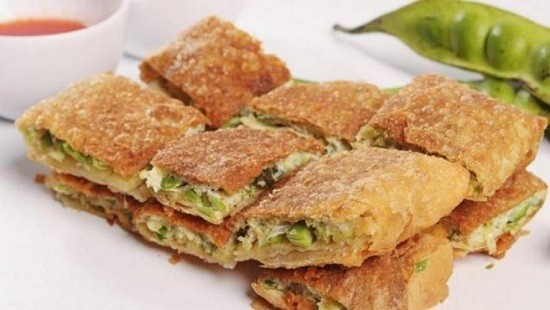martabak: (13, 14, 546, 309)
